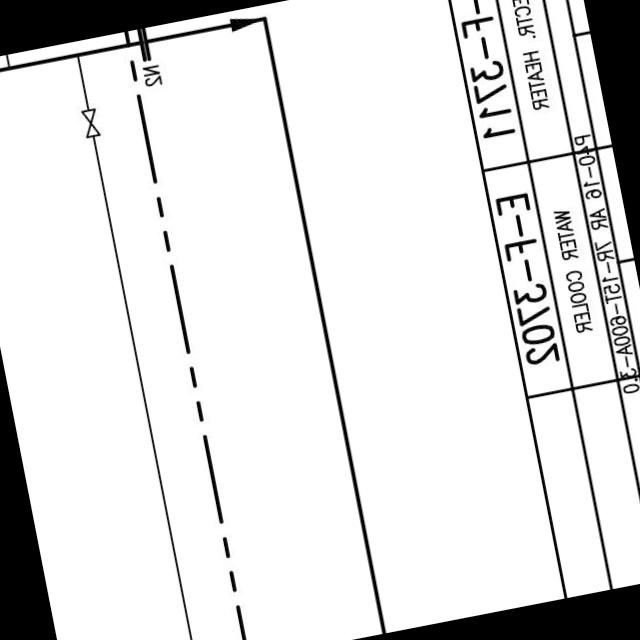GV: (74, 103, 104, 142)
